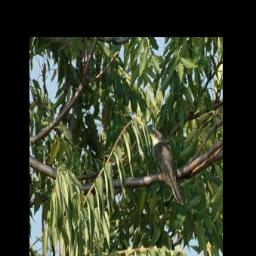Cuckoo: (148, 128, 187, 207)
